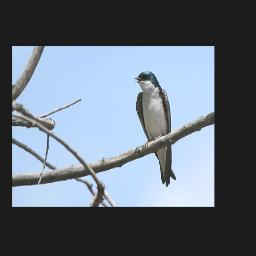Swallow: (133, 71, 176, 187)
